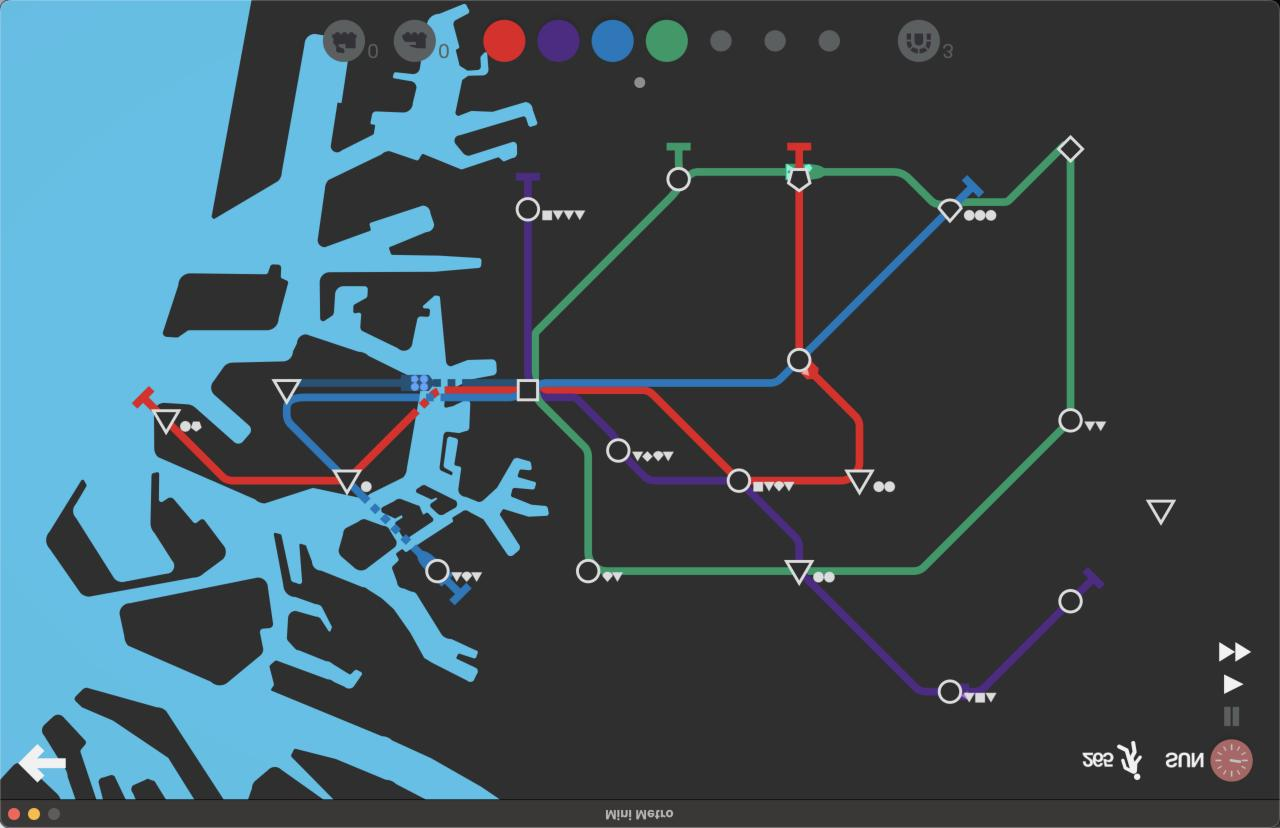BLUE LINE: (809, 215, 947, 352), (350, 482, 430, 562), (540, 368, 795, 387), (283, 403, 340, 468), (292, 393, 516, 404), (959, 175, 983, 202), (445, 582, 473, 605)
DARK GREEN LINE: (810, 427, 1064, 575), (532, 190, 679, 379), (537, 400, 595, 558), (965, 149, 1061, 206), (813, 169, 942, 209), (1067, 161, 1076, 409), (599, 566, 795, 575), (688, 168, 790, 177), (667, 144, 691, 169)
PURPLE LINE: (805, 578, 939, 697), (964, 607, 1064, 695), (748, 487, 806, 560), (541, 394, 618, 440), (627, 459, 725, 484), (523, 222, 533, 377), (1079, 569, 1103, 594), (516, 173, 539, 197)
RED LINE: (543, 387, 733, 474), (356, 387, 515, 469), (174, 425, 341, 485), (805, 366, 864, 469), (795, 187, 804, 349), (751, 477, 851, 485), (131, 387, 159, 409), (791, 142, 814, 167)
